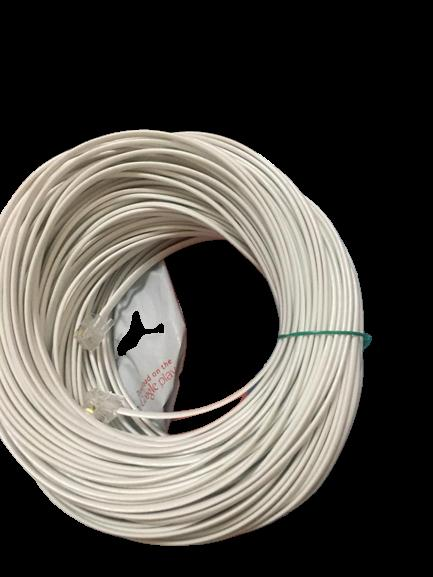cable: (0, 128, 371, 550)
